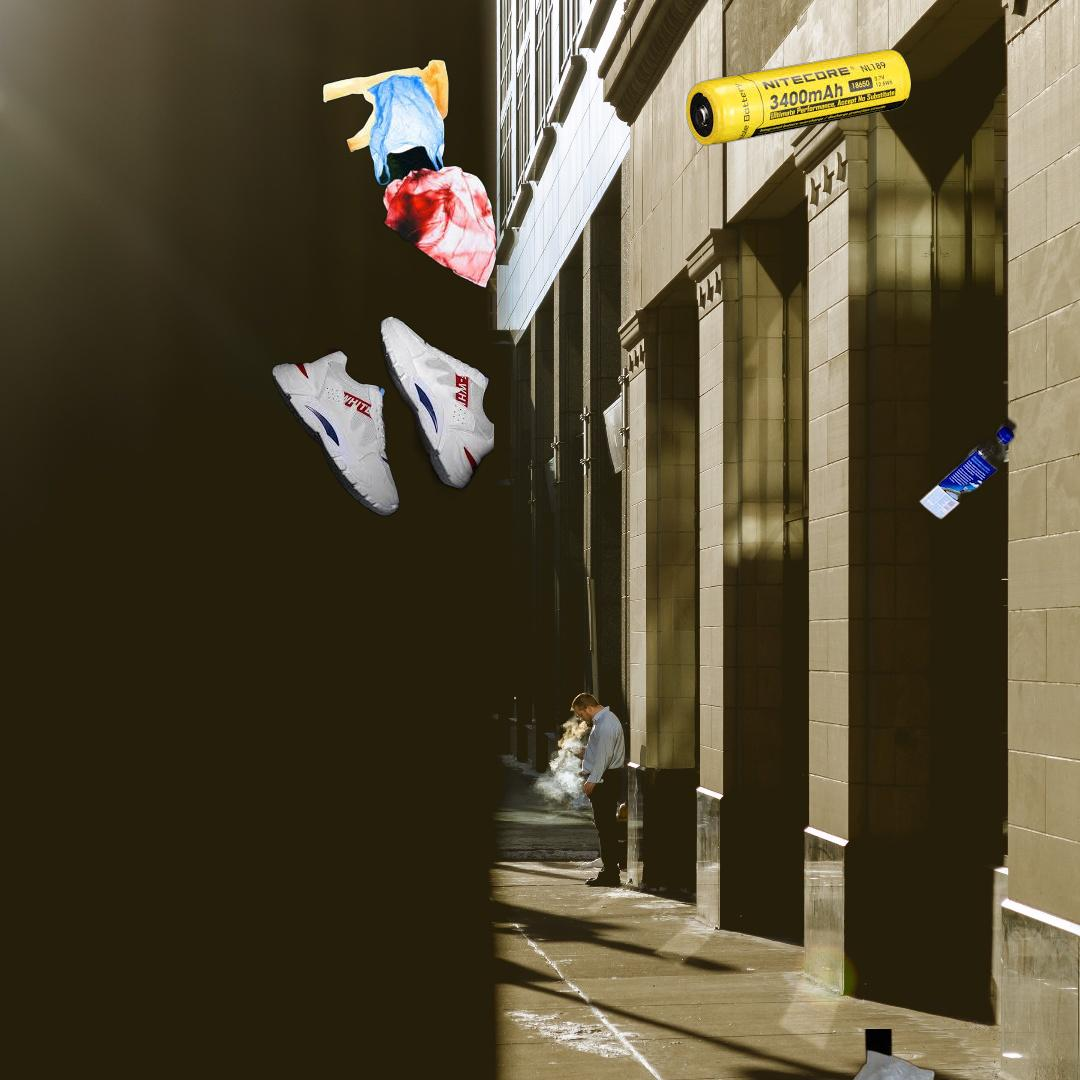battery: (686, 47, 911, 148)
plastic-bag: (319, 58, 500, 291), (816, 1029, 1025, 1080)
plastic-bottles: (914, 413, 1020, 526)
shoes: (269, 313, 494, 519)
